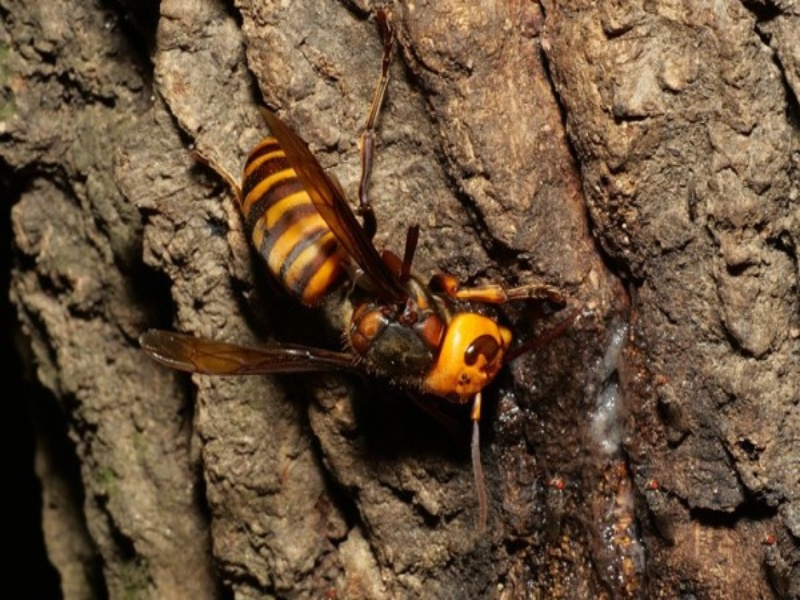asian_giant_hornet: (236, 136, 516, 423)
